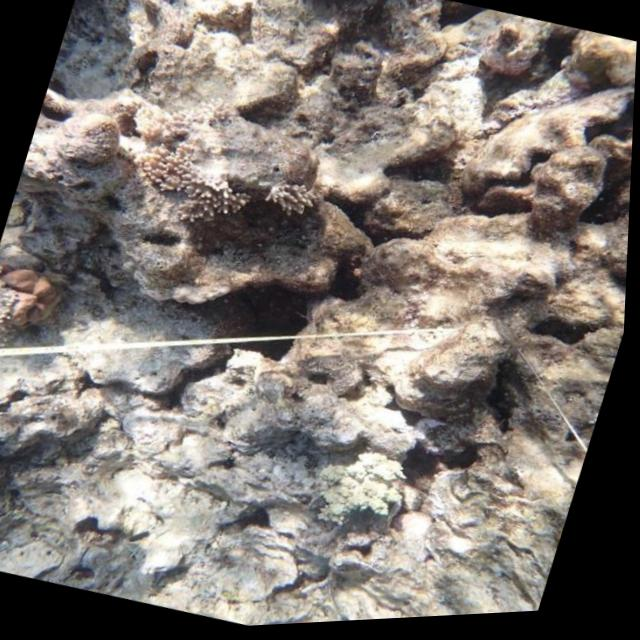Bleached Coral: (296, 424, 435, 556), (0, 280, 31, 344)
